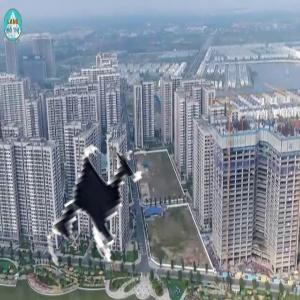drone: (21, 122, 184, 285)
